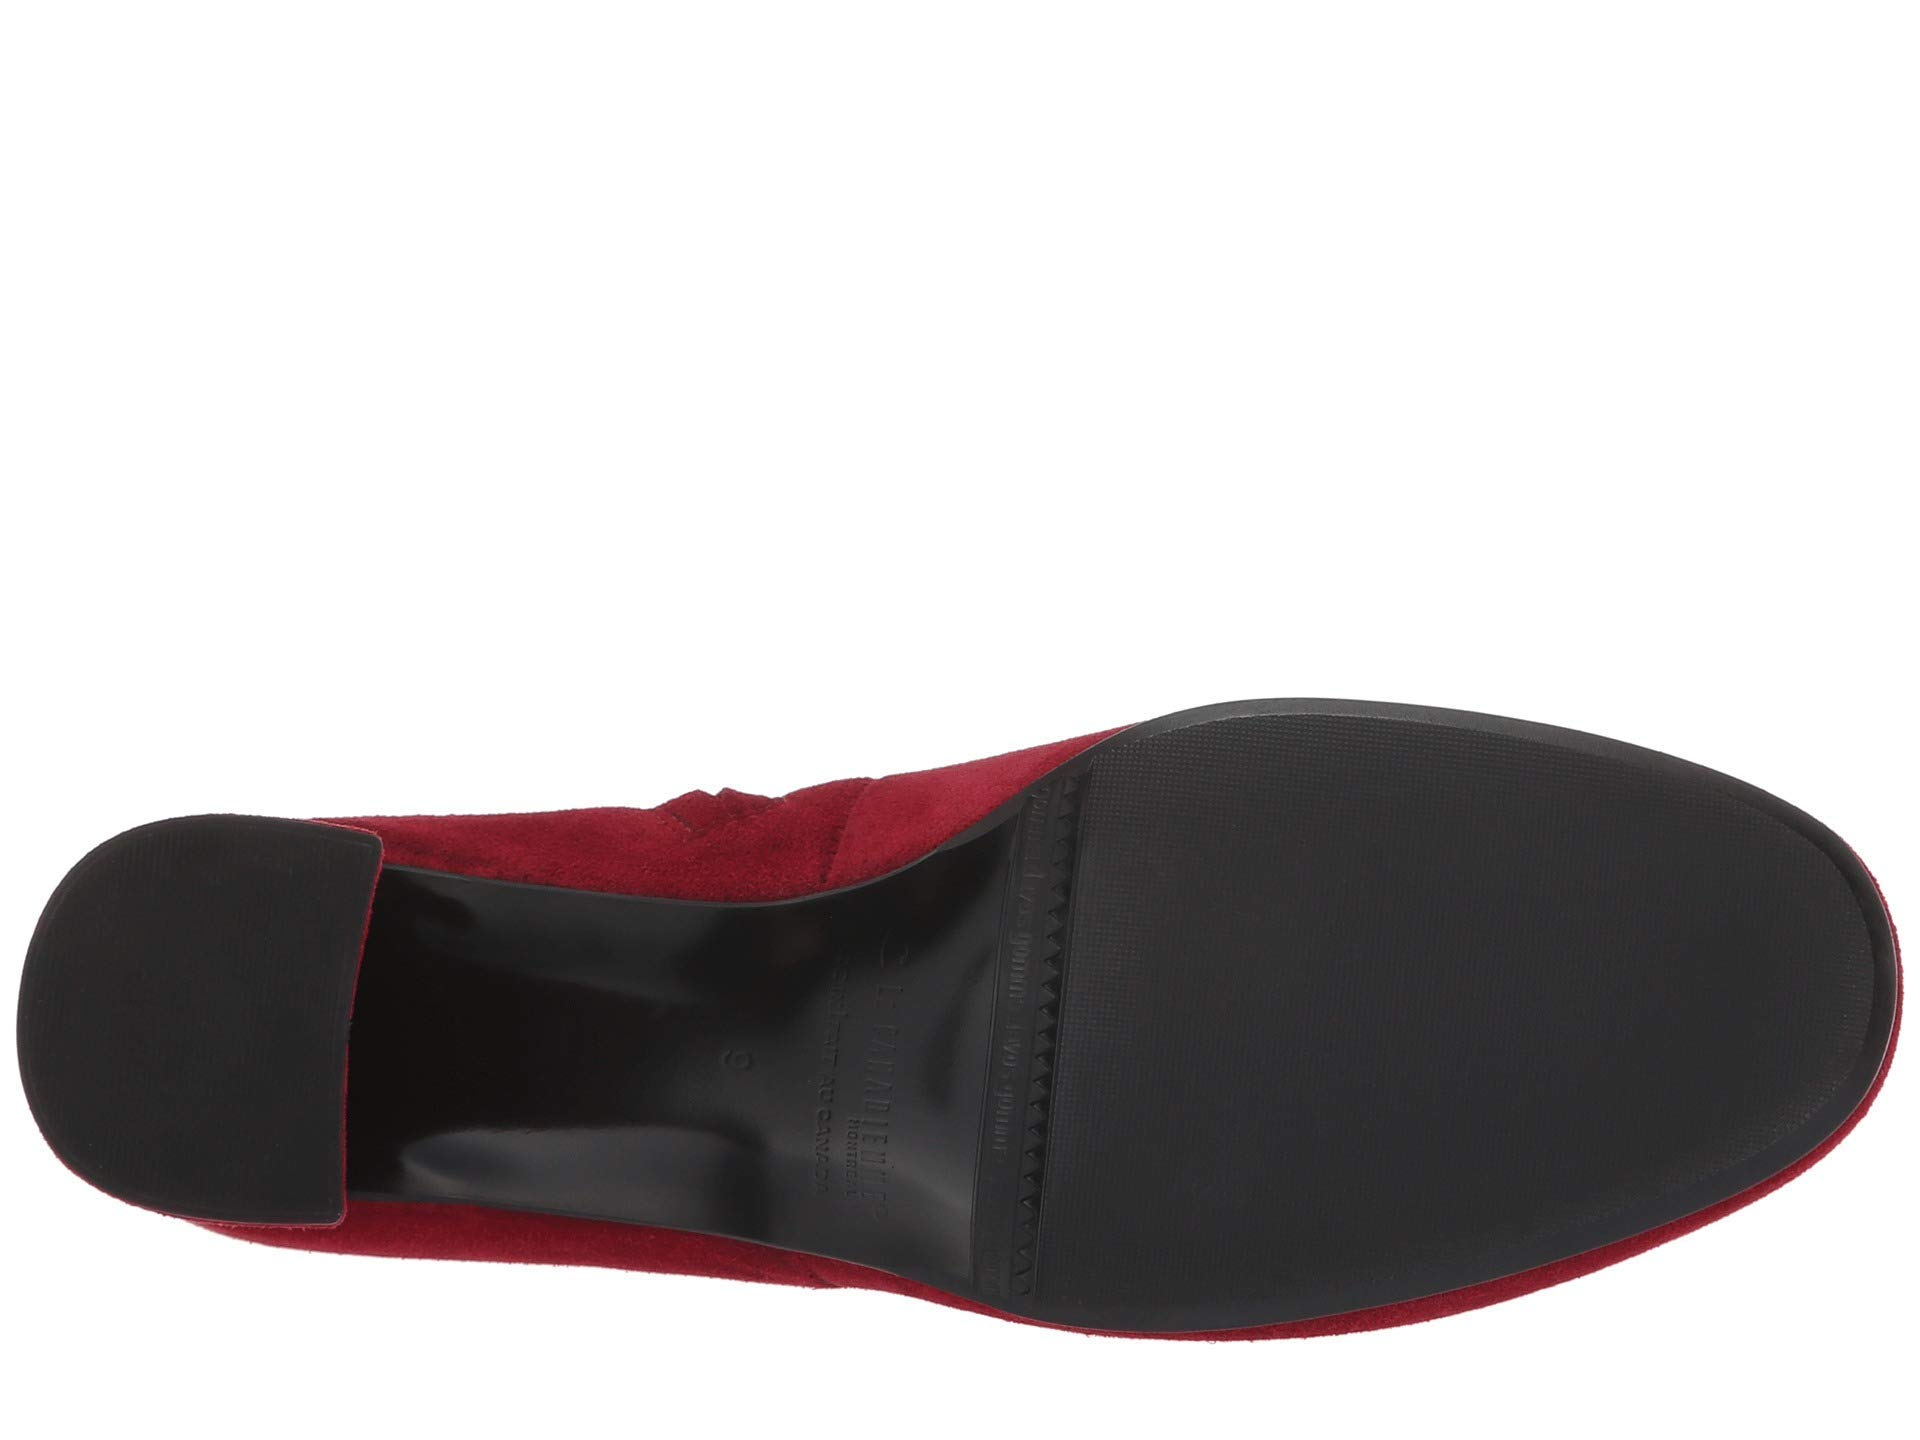circle: (782, 927, 936, 1237)
line: (1002, 761, 1085, 1215)
text: (782, 927, 936, 1237), (1002, 761, 1085, 1215)
triangle: (1002, 761, 1085, 1215)
